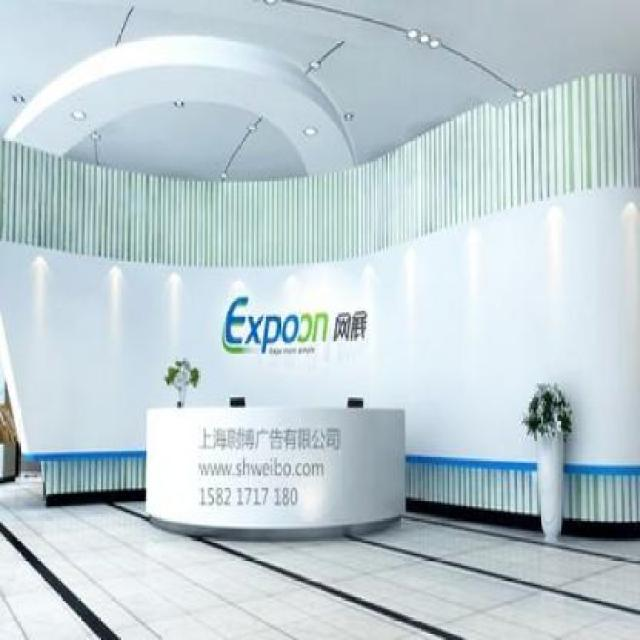frontdesk: (137, 392, 412, 552)
